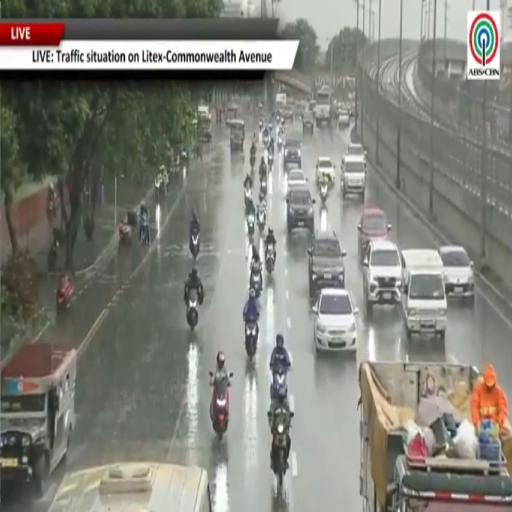car: (313, 288, 359, 351), (363, 240, 401, 312), (308, 231, 346, 297), (439, 246, 474, 299), (358, 208, 391, 261), (286, 185, 315, 233), (340, 155, 366, 201), (283, 138, 302, 169), (316, 157, 335, 185), (342, 143, 366, 162), (287, 169, 306, 188), (303, 111, 314, 134), (338, 108, 350, 128), (283, 105, 294, 122)
jeepney: (0, 343, 76, 497), (48, 462, 212, 511), (231, 120, 244, 151), (197, 114, 211, 141), (225, 104, 238, 125)
motorcycle: (209, 372, 229, 440), (272, 415, 288, 489), (56, 279, 74, 315), (270, 365, 287, 399), (245, 322, 258, 360), (186, 291, 198, 331), (249, 264, 261, 298), (189, 230, 200, 260), (265, 243, 276, 273), (154, 174, 165, 203), (119, 223, 131, 249), (48, 240, 58, 271), (140, 216, 149, 246), (258, 208, 266, 232), (247, 214, 254, 236), (320, 184, 327, 205), (245, 187, 252, 207), (260, 178, 267, 197), (268, 152, 273, 171), (250, 152, 255, 171), (258, 120, 264, 134), (263, 133, 269, 147), (278, 136, 282, 151), (276, 115, 280, 123)
truck: (359, 361, 511, 511), (315, 86, 331, 126), (276, 93, 287, 114)
